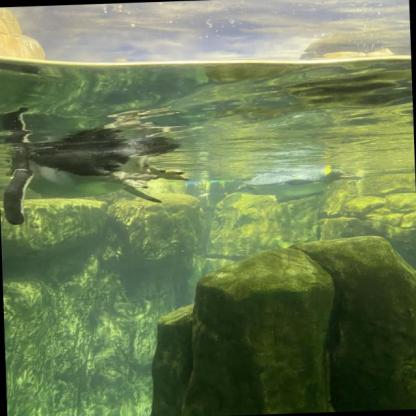penguin: (1, 126, 191, 224), (235, 166, 362, 202)
